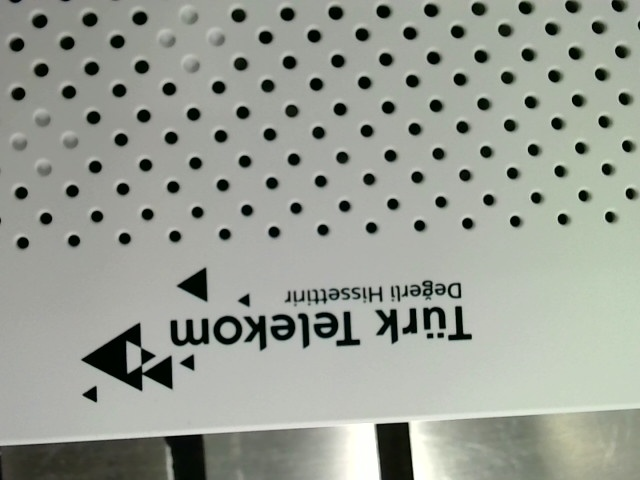AQ_TURKTelekom: (82, 261, 491, 404)
